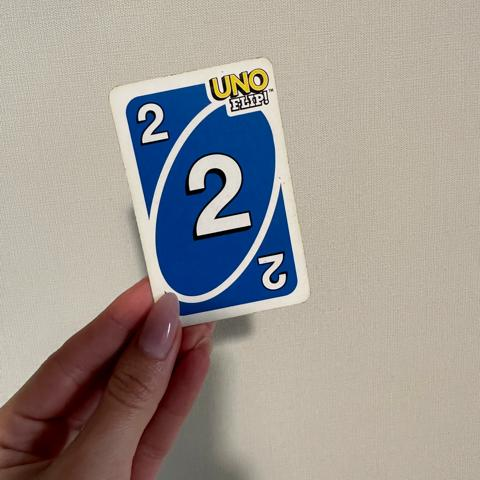lblue-2: (129, 90, 178, 152)
